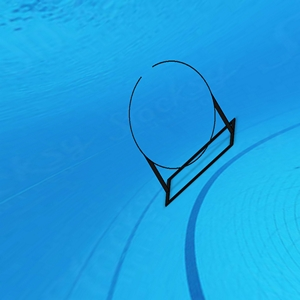circle: (123, 59, 242, 209)
